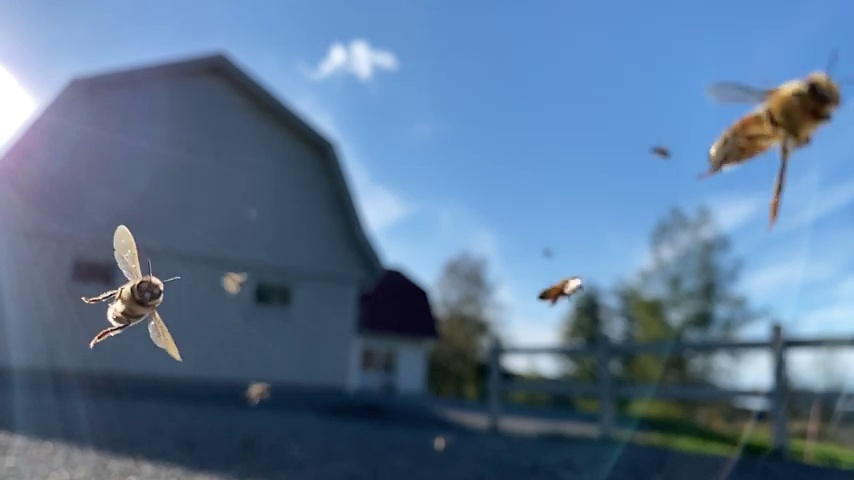insect: (695, 52, 854, 222), (79, 225, 182, 360), (538, 273, 586, 307)
